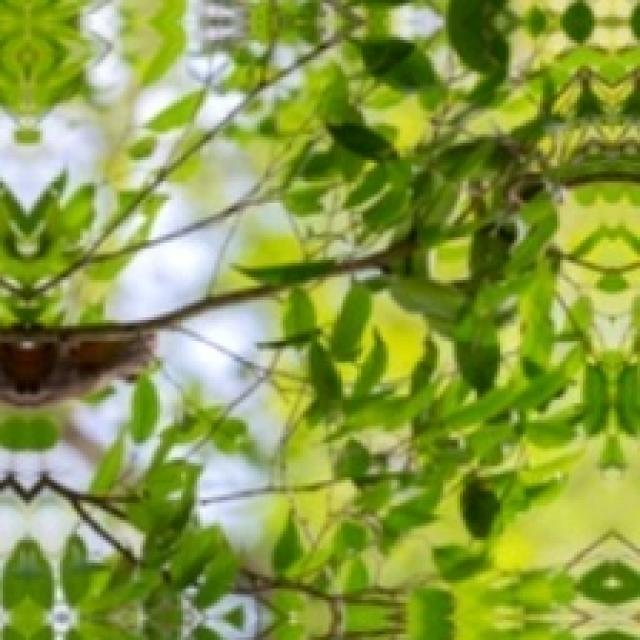red-tailed green ratsnake: (0, 323, 151, 403)
